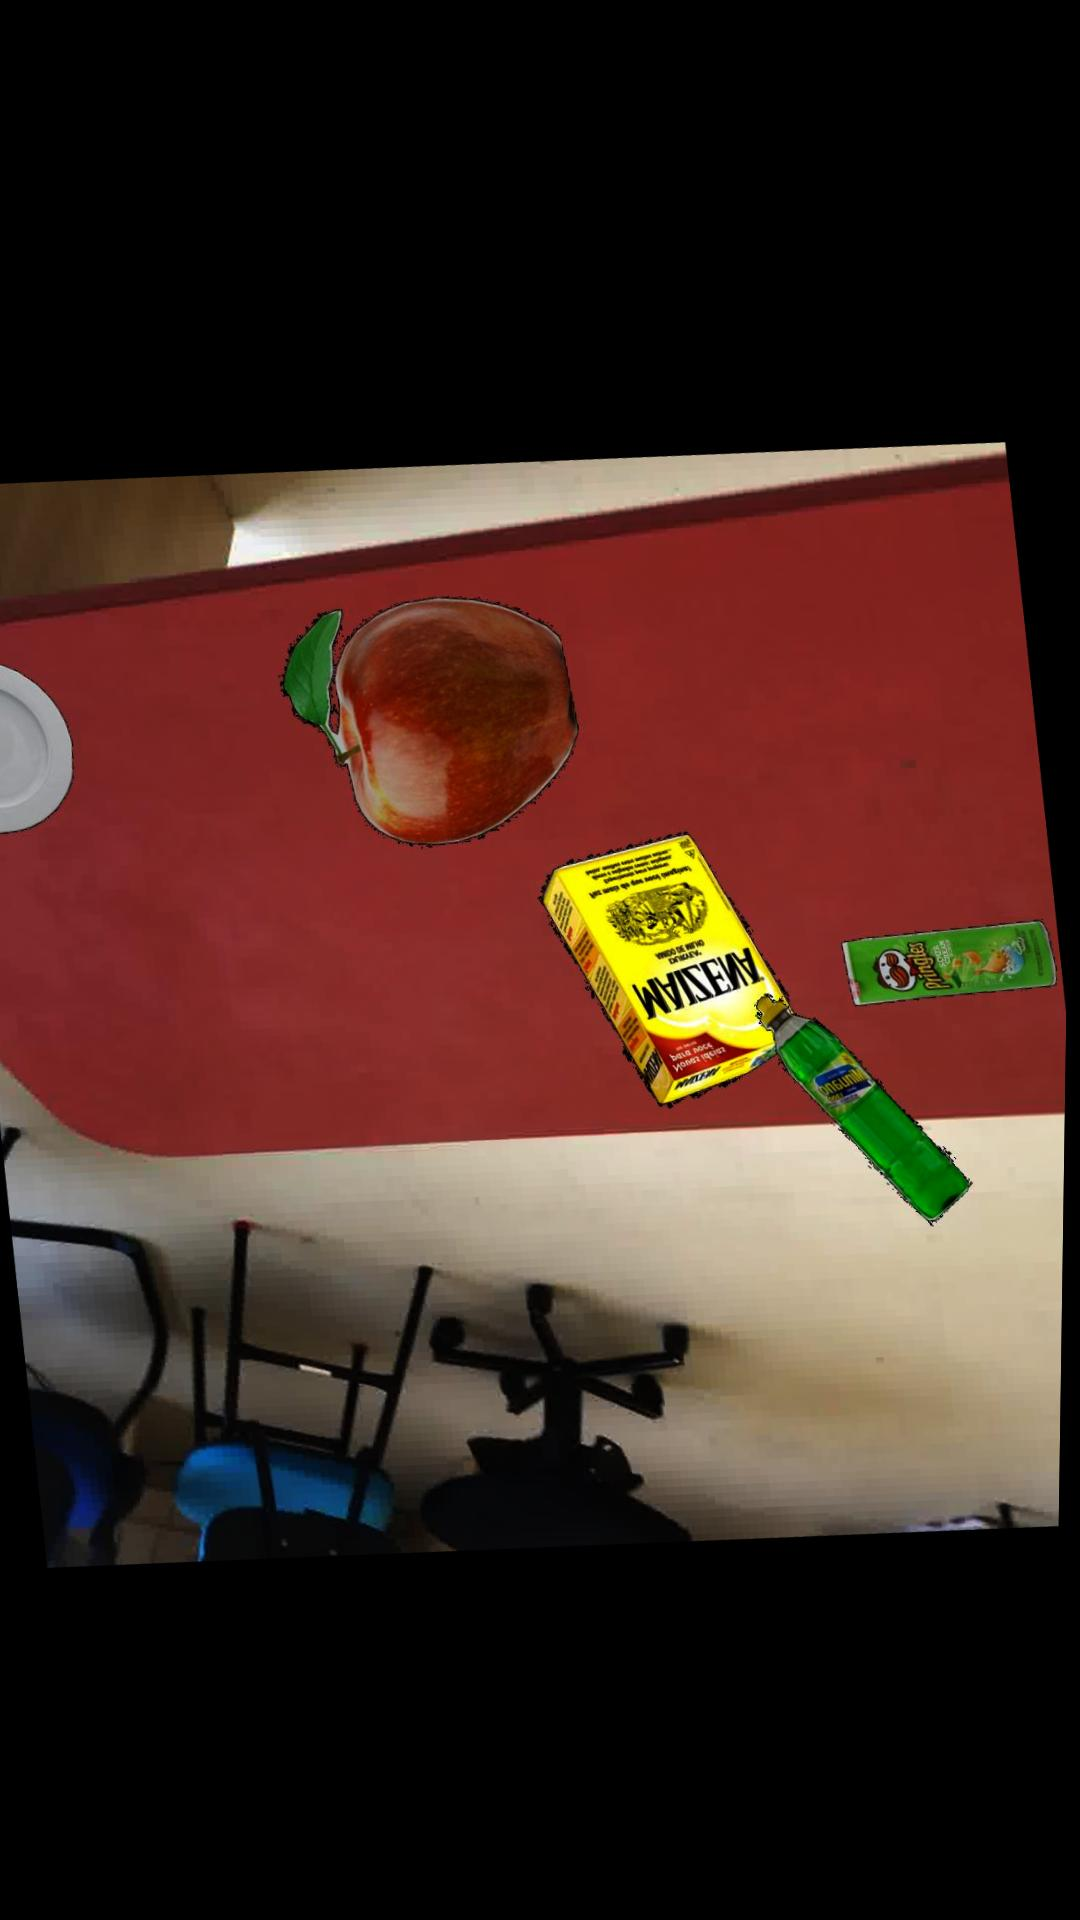apple: (284, 585, 582, 836)
cleaner: (760, 977, 975, 1203)
plate: (0, 661, 76, 831)
pringles: (845, 898, 1060, 988)
